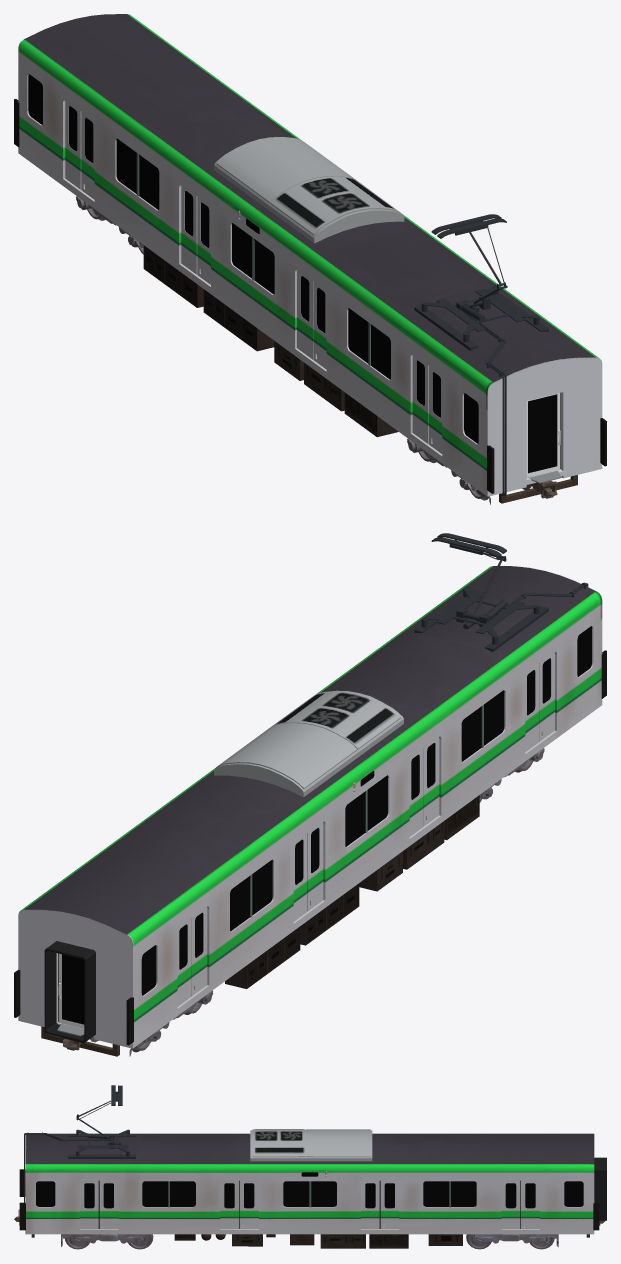
Rendered from Moha1601.fbx.
3 views of the same model, one above another, from view 1: azimuth 30°, elevation 25°; view 2: azimuth 150°, elevation 25°; view 3: azimuth 270°, elevation 25° (orthographic). The views are drawn at different scales.
Parts seen in each view (by area): view 1: moha1601_Body_Static, moha1601_Windows_Static, pantagurafu_haikan.002, kantsutobira1.002, door_L_04.003, door_L_02.003, door_L_07.003, door_L_06.003, door_R_06.003, door_R_07.003, door_R_04.003, door_R_02.003 (+1 smaller); view 2: moha1601_Body_Static, moha1601_Windows_Static, pantagurafu_haikan.002, kantsutobira.003, door_R_06.003, door_R_07.003, door_R_04.003, door_R_02.003, door_L_04.003, door_L_07.003, door_L_02.003, door_L_06.003 (+1 smaller); view 3: moha1601_Body_Static, moha1601_Windows_Static, pantagurafu_haikan.002, door_L_05.003, door_R_08.003, door_R_01.003, door_R_03.003, door_L_01.003, door_L_03.003, door_L_08.003, door_R_05.003.
Part boxes in pixels (box(x1,y1,x2,y2)): moha1601_Body_Static: box(14, 14, 606, 504); moha1601_Windows_Static: box(28, 74, 478, 443); pantagurafu_haikan.002: box(414, 285, 548, 496); kantsutobira1.002: box(526, 392, 560, 477); door_L_04.003: box(297, 269, 313, 359); door_L_02.003: box(412, 354, 428, 444); door_L_07.003: box(65, 100, 81, 189); door_L_06.003: box(181, 185, 197, 274); door_R_06.003: box(197, 196, 210, 284); door_R_07.003: box(81, 111, 94, 199); door_R_04.003: box(313, 281, 326, 369); door_R_02.003: box(429, 366, 442, 453); moha1601_Body_Static: box(14, 566, 606, 1056); moha1601_Windows_Static: box(141, 626, 591, 995); pantagurafu_haikan.002: box(414, 582, 588, 651); kantsutobira.003: box(58, 953, 84, 1028); door_R_06.003: box(307, 822, 323, 911); door_R_07.003: box(191, 906, 207, 996); door_R_04.003: box(423, 737, 439, 826); door_R_02.003: box(539, 652, 554, 741); door_L_04.003: box(409, 748, 423, 836); door_L_07.003: box(177, 918, 191, 1006); door_L_02.003: box(525, 663, 538, 751); door_L_06.003: box(293, 833, 306, 921); moha1601_Body_Static: box(14, 1129, 606, 1249); moha1601_Windows_Static: box(36, 1172, 583, 1206); pantagurafu_haikan.002: box(24, 1129, 135, 1202); door_L_05.003: box(361, 1180, 380, 1229); door_R_08.003: box(520, 1180, 539, 1229); door_R_01.003: box(99, 1180, 118, 1229); door_R_03.003: box(239, 1180, 258, 1229); door_L_01.003: box(80, 1180, 99, 1229); door_L_03.003: box(220, 1180, 239, 1229); door_L_08.003: box(501, 1180, 520, 1229); door_R_05.003: box(380, 1180, 399, 1229).
Bounding box in the file's own units: 2.86 × 5.76 × 20.69.
6 materials, 2 textured.
